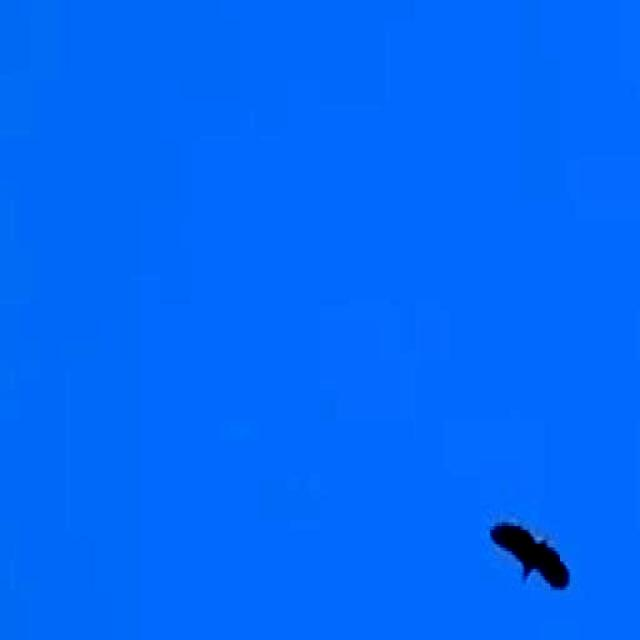airplane: (478, 475, 578, 628)
